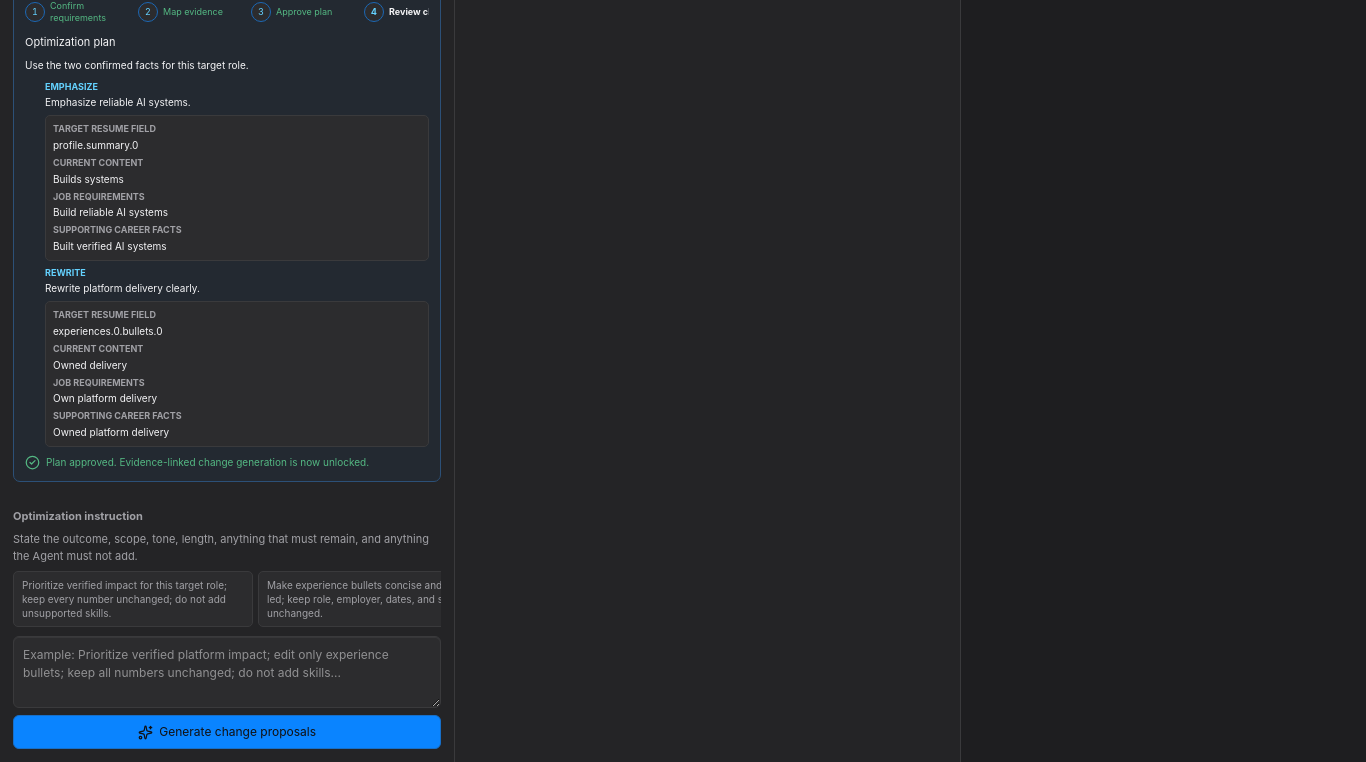
it: ResumeAgentApp › sends active resume context and renders conversation, actions, questions, and before/after preview
(page scrolled)
Type "Improve my impact" into the text box labelled "Optimization instruction".
click(227, 672); type("Improve my impact")  # box [13,636,441,708]
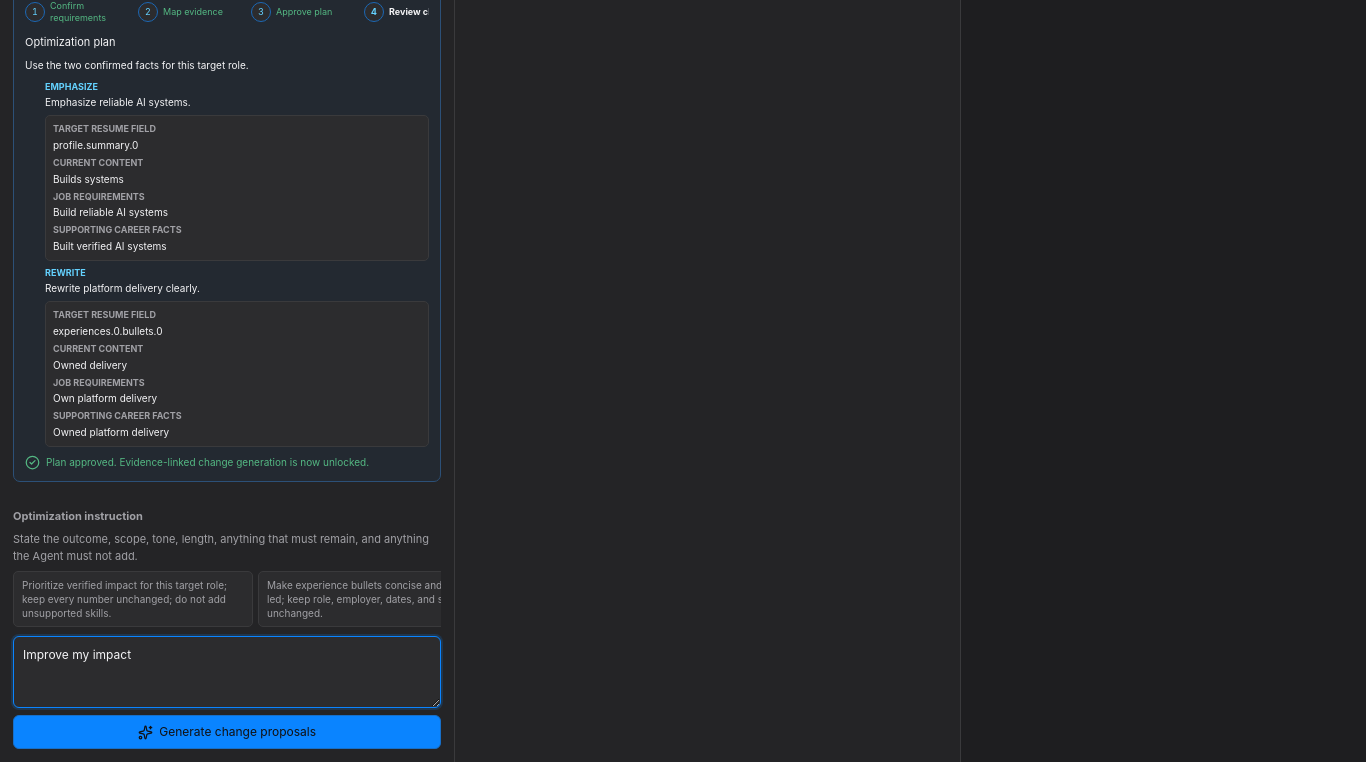
Click the button "Generate change proposals".
click(227, 732)  # box [13,715,441,749]
(page scrolled)
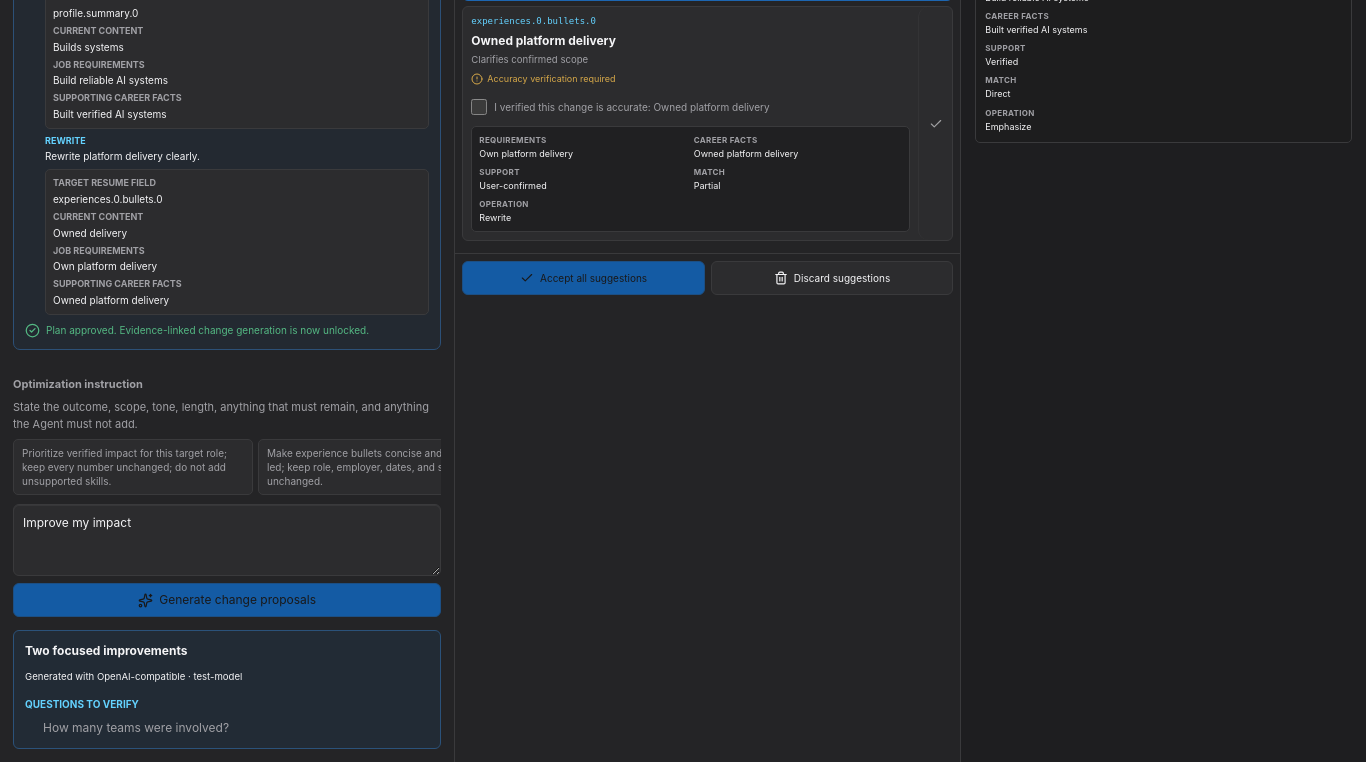
Check: the text "Two focused improvements" is shown, box [25,643,187,658]
Check: the list item "How many teams were involved?" is shown, box [43,720,229,735]
Check: the text "Built verified AI systems" is shown 2 times
